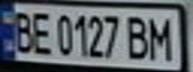0: (51, 10, 72, 57)
1: (69, 11, 87, 57)
2: (84, 11, 106, 58)
7: (103, 11, 124, 60)
B: (6, 7, 36, 54), (124, 12, 151, 61)
E: (27, 8, 54, 56)
M: (145, 12, 175, 61)
